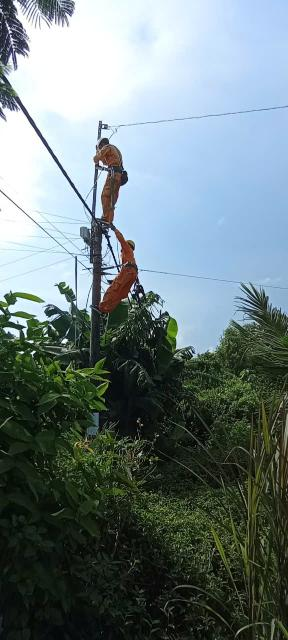gloves: (108, 225, 118, 231)
harness: (102, 163, 128, 176), (116, 263, 140, 270)
helmet: (124, 237, 140, 251), (96, 138, 112, 146)
shoes: (90, 304, 103, 317), (95, 217, 110, 227)
